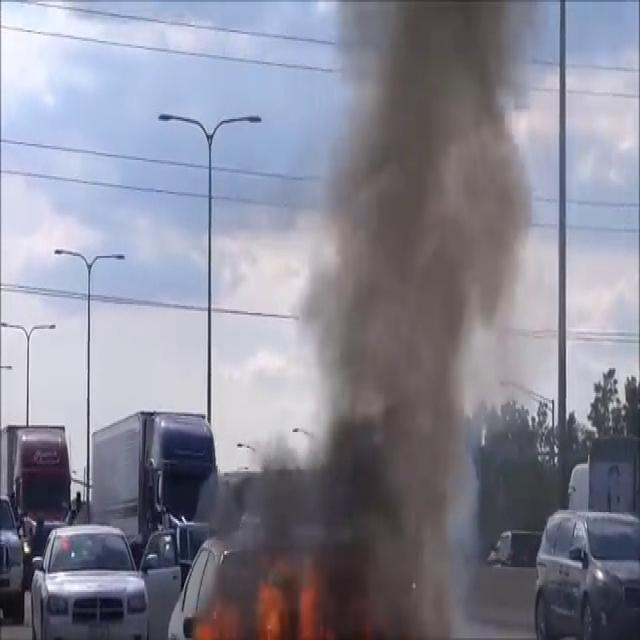Fire: (194, 565, 331, 640)
Smoke: (206, 0, 542, 633)
